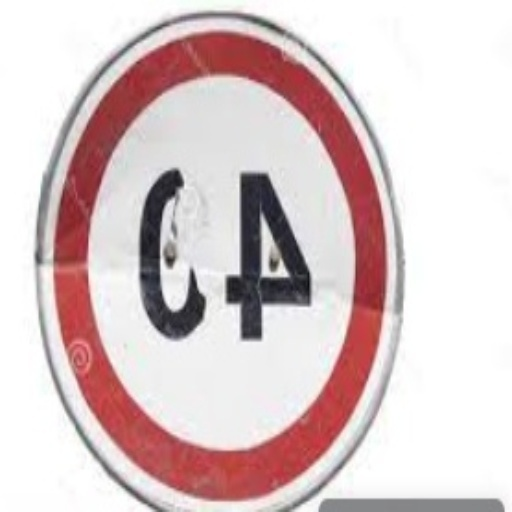Speed limit: (48, 5, 420, 501)
